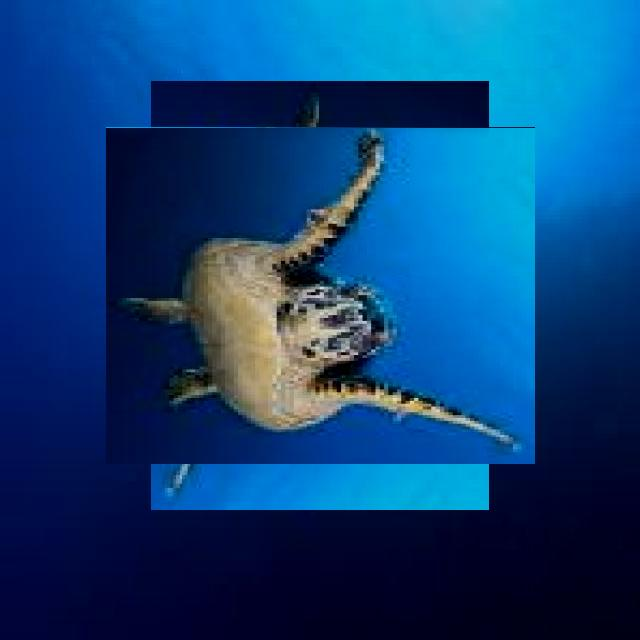Sea turtle: (129, 104, 512, 487)
